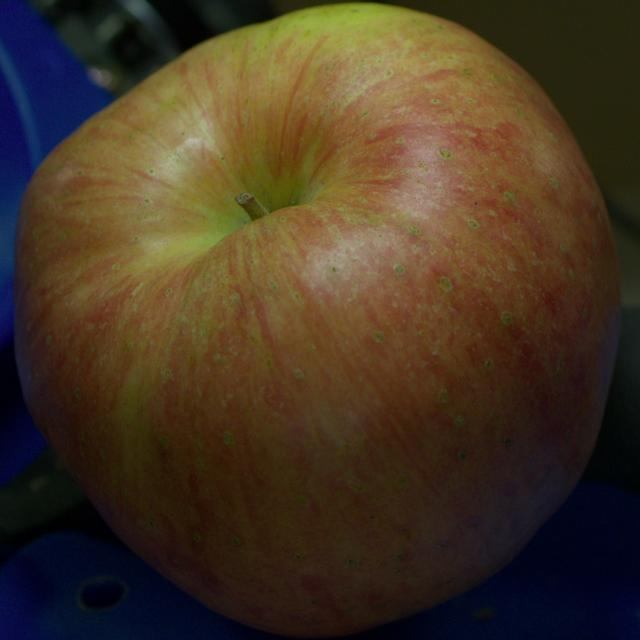apple: (14, 4, 620, 636)
